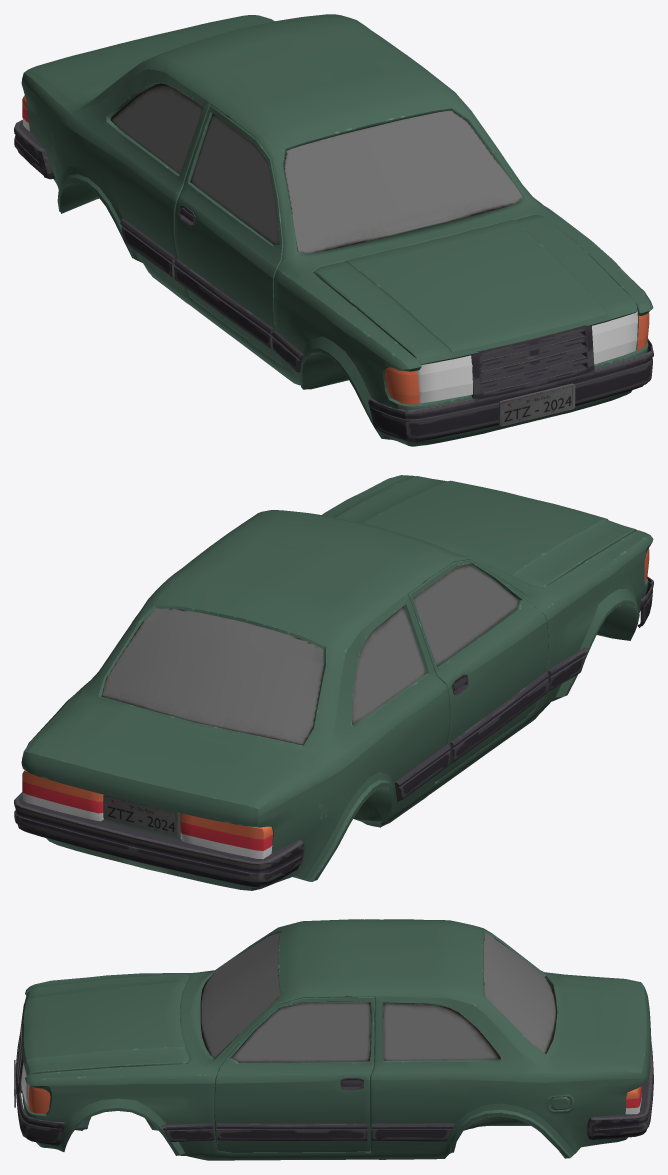
Rendered from Carro final(interno).fbx.
3 renders of one model, top to bottom at view 1: azimuth 30°, elevation 25°; view 2: azimuth 150°, elevation 25°; view 3: azimuth 270°, elevation 25°, orthographic. The views are drawn at different scales.
Parts seen in each view (by area): view 1: Car, Chao2, Capo, Parachoque, Luz2, Placa; view 2: Car, Chao2, Capo, Parachoque, Luz2, Placa; view 3: Car, Chao2, Capo, Parachoque, Luz2.
Boxes of the visible parts, <box> form: Car: <box>21,14,653,446</box>; Chao2: <box>110,83,522,253</box>; Capo: <box>313,215,637,364</box>; Parachoque: <box>14,120,653,441</box>; Luz2: <box>22,95,649,404</box>; Placa: <box>498,383,575,426</box>; Car: <box>21,475,653,890</box>; Chao2: <box>101,564,518,793</box>; Capo: <box>335,476,636,587</box>; Parachoque: <box>14,576,653,887</box>; Luz2: <box>22,548,649,859</box>; Placa: <box>103,795,179,836</box>; Car: <box>22,919,651,1160</box>; Chao2: <box>200,932,556,1148</box>; Capo: <box>22,973,189,1075</box>; Parachoque: <box>15,1013,653,1145</box>; Luz2: <box>21,1063,642,1114</box>.
Bounding box in the file's own units: 214 × 149 × 522.
